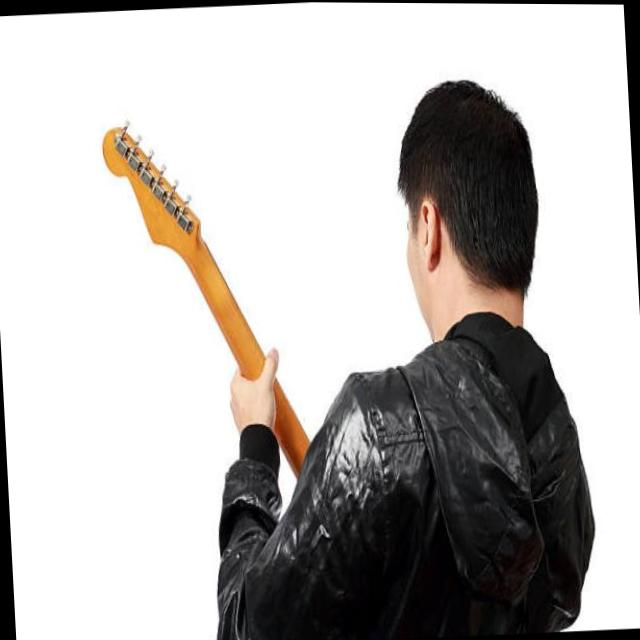no helmet: (396, 61, 549, 352)
